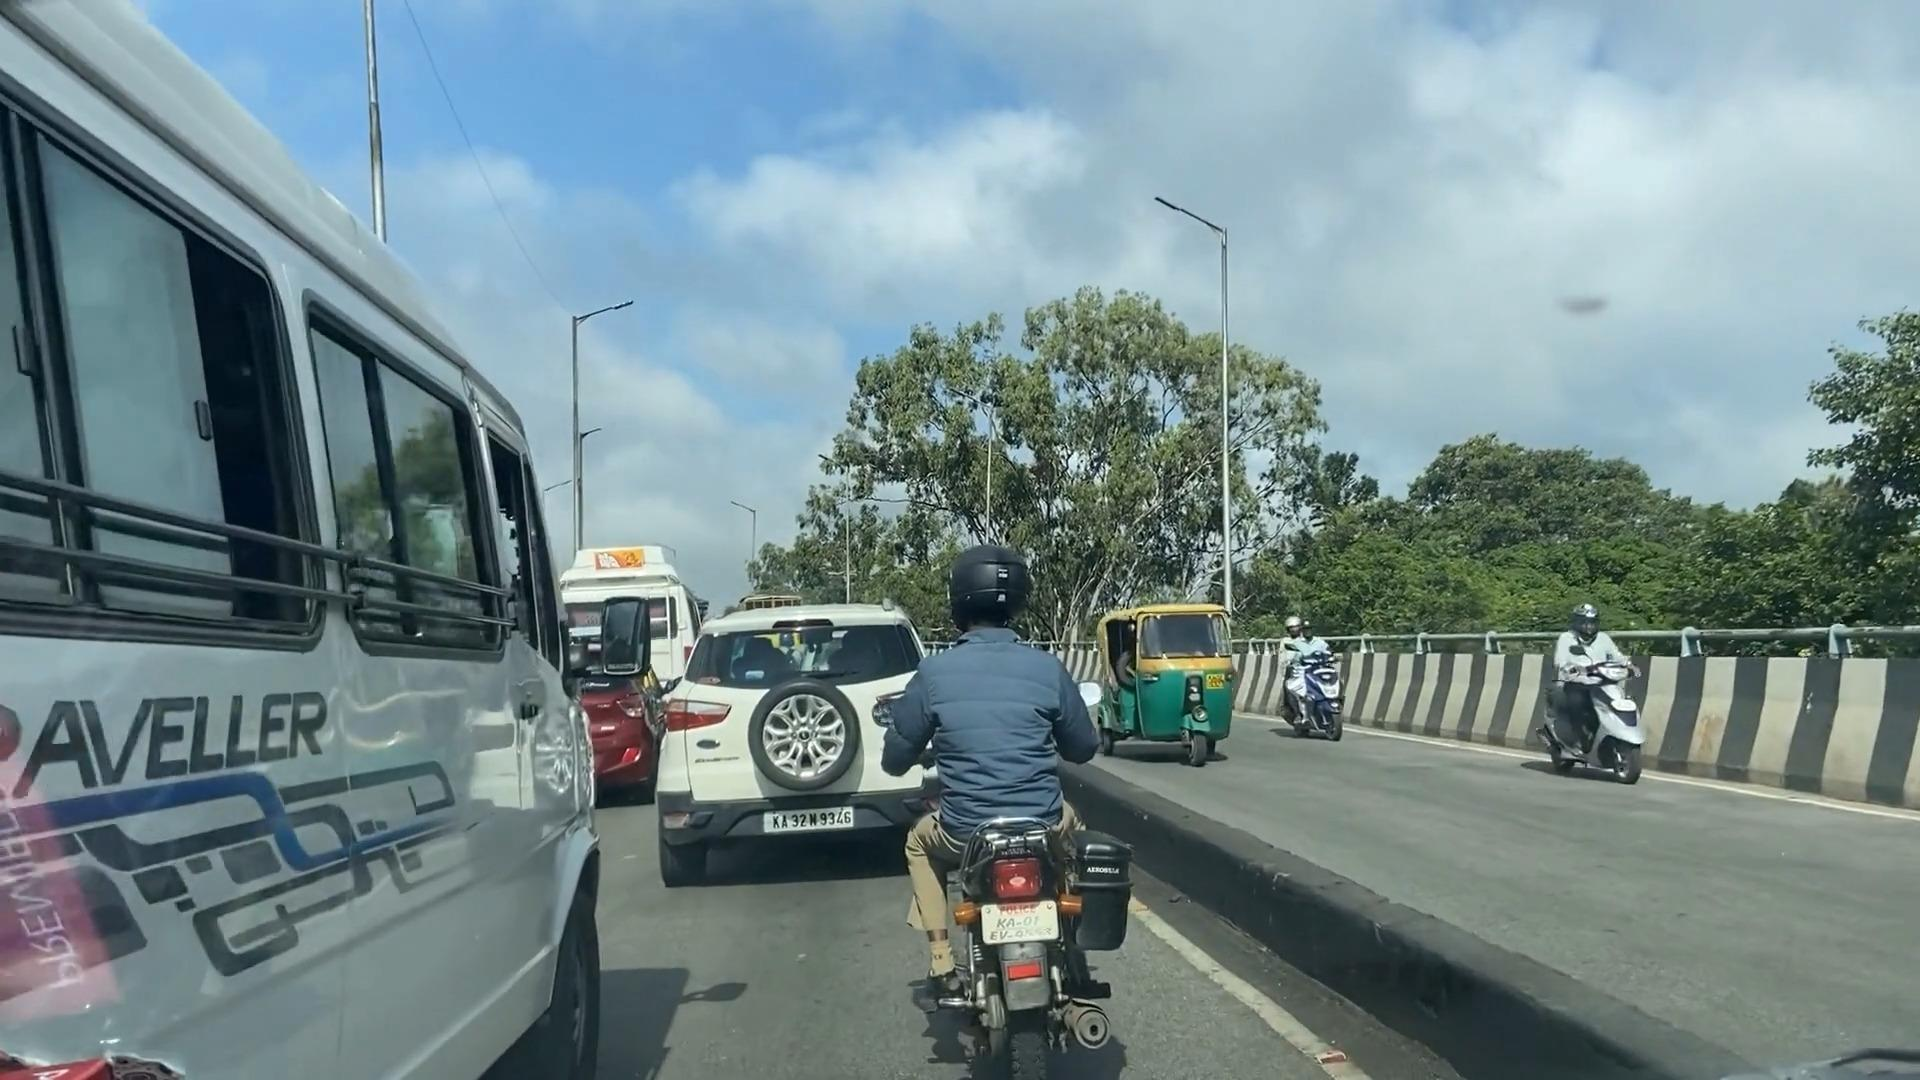HMV: (0, 40, 522, 1080)
LMV: (856, 568, 1121, 1073)
